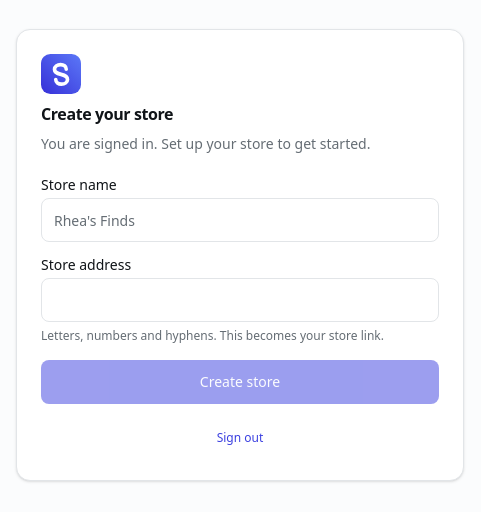
Test case: the store address field › a hyphen can still be typed — it must survive the keystroke
Type "davao-" into the field labelled "Store address" at x=240, y=300, box [41,278,439,322]
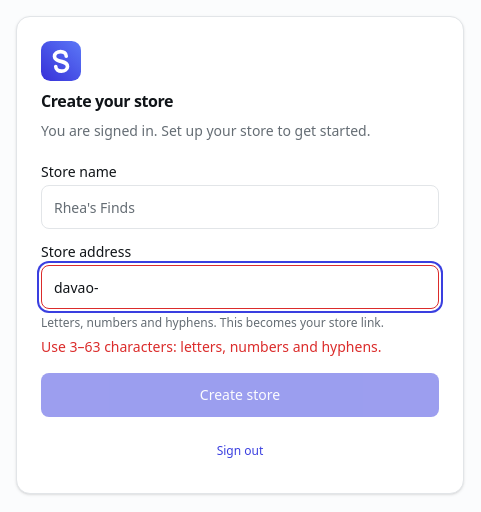
Type "biryani" into the field labelled "Store address" at x=240, y=287, box [41,265,439,309]
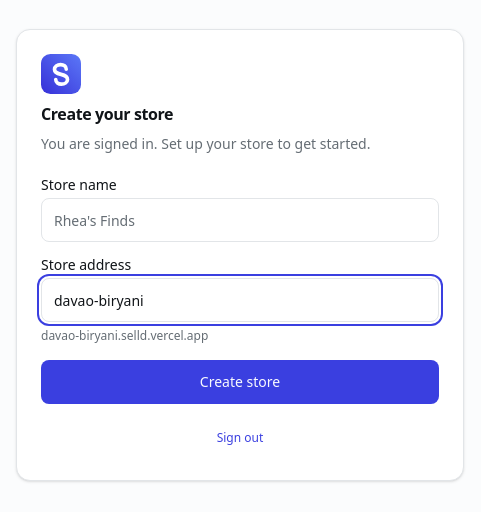
Result: the field labelled "Store address" holds "davao-biryani" at [41,278,439,322]
